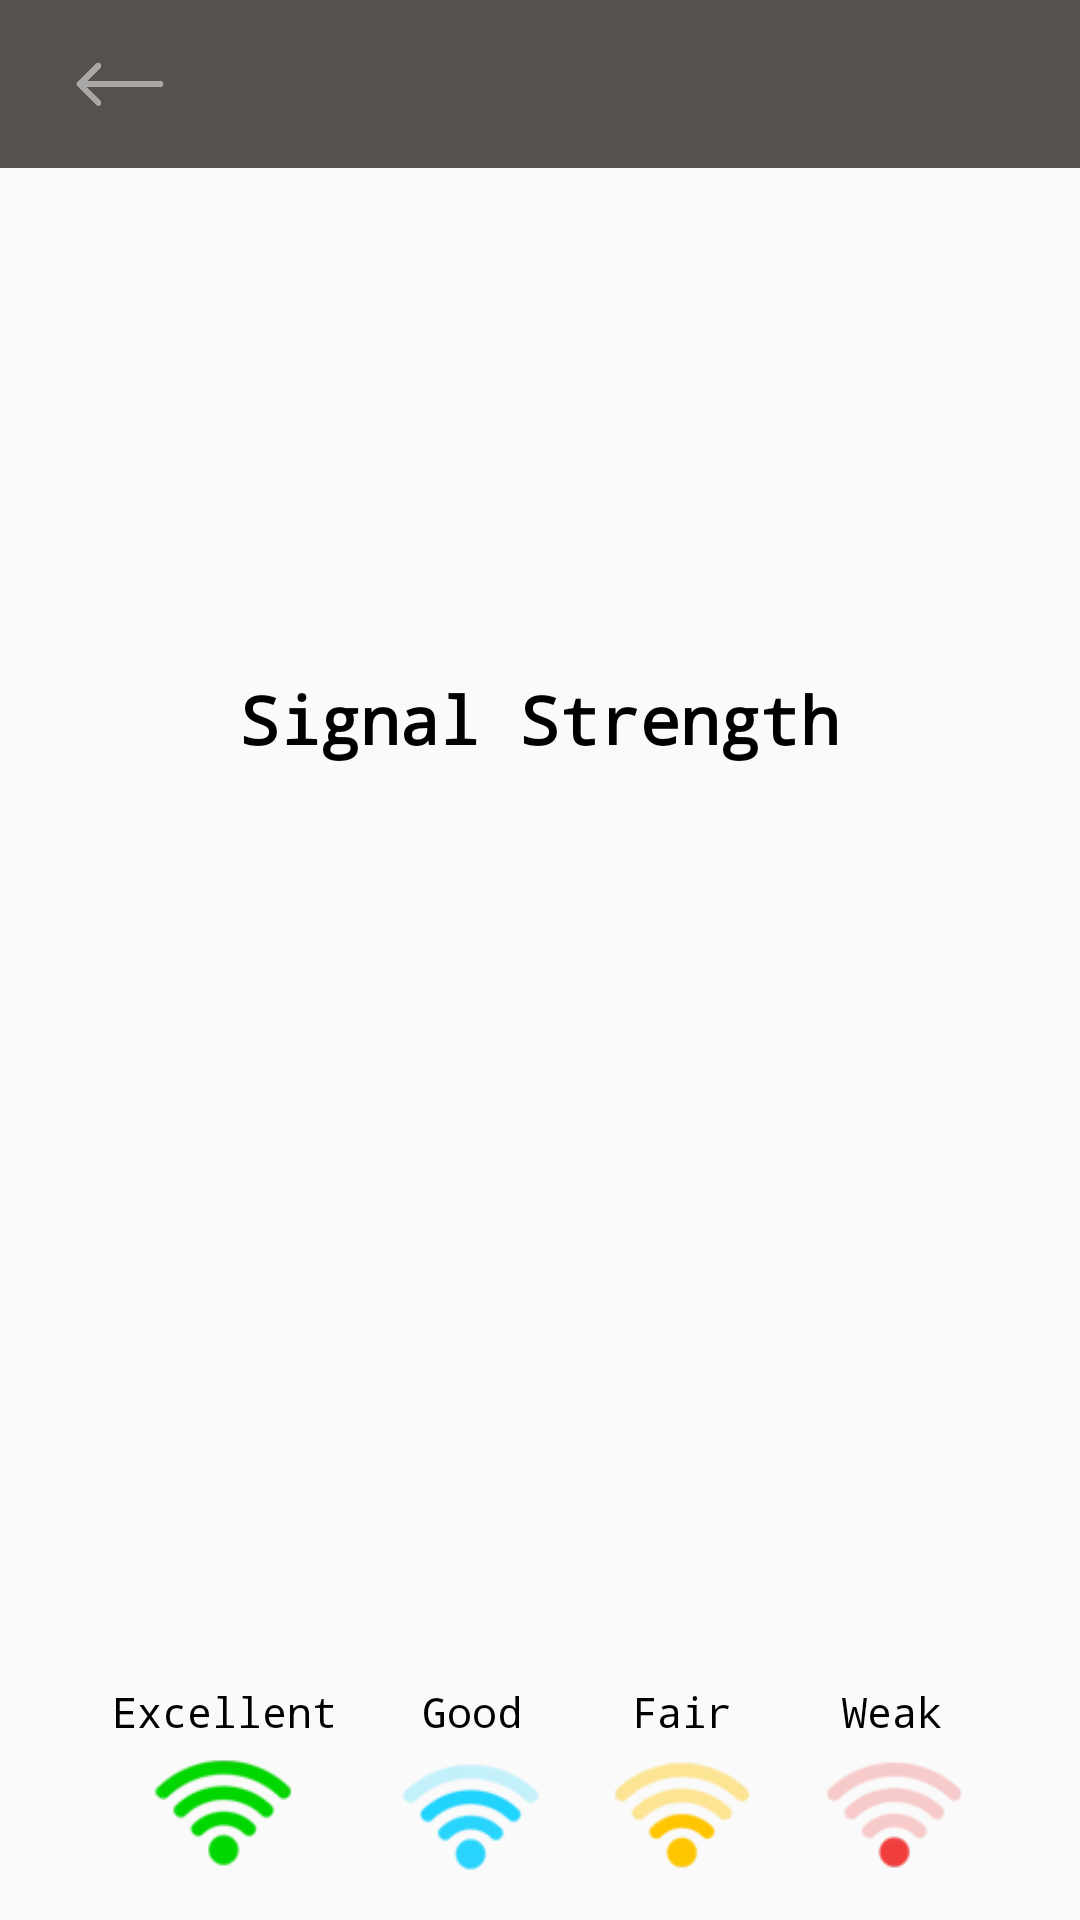

Where icons sit on this 1080*1920 app screen, as (x1, y1, x2, y2):
back: (76, 63, 164, 106)
